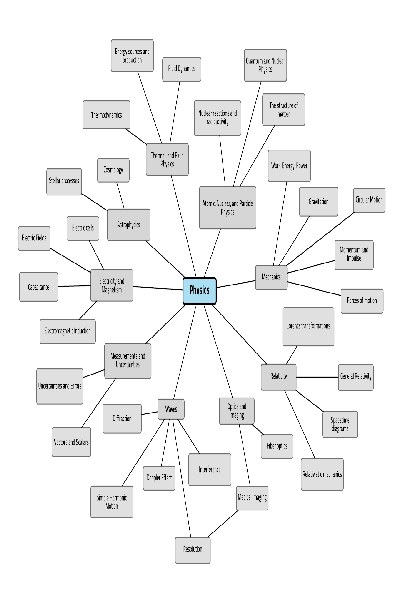arrow: (283, 214, 353, 267), (211, 302, 266, 363), (231, 82, 261, 187), (169, 174, 197, 279), (204, 304, 234, 400), (123, 420, 165, 487), (169, 419, 192, 536), (283, 391, 315, 458), (174, 305, 195, 401), (242, 126, 274, 186), (137, 70, 162, 143), (145, 239, 186, 280), (145, 304, 186, 344), (83, 379, 115, 428), (278, 216, 308, 268), (271, 182, 288, 266), (51, 246, 92, 274), (208, 509, 251, 534), (286, 279, 340, 298), (175, 418, 202, 450), (238, 425, 251, 486), (287, 261, 335, 276), (205, 228, 219, 277), (294, 390, 325, 412), (83, 192, 110, 214), (170, 80, 179, 144), (87, 238, 105, 269), (217, 279, 256, 293), (132, 283, 182, 293), (218, 136, 226, 186), (160, 421, 169, 464), (80, 300, 99, 320), (126, 127, 148, 144), (113, 180, 126, 208), (294, 373, 338, 380), (284, 347, 300, 366), (59, 280, 92, 289), (84, 368, 105, 381), (251, 423, 265, 434), (142, 410, 159, 418)
idea: (199, 185, 255, 229), (282, 305, 334, 347), (36, 366, 83, 407), (104, 341, 151, 379), (194, 100, 241, 135), (300, 457, 345, 491), (110, 38, 152, 74), (145, 142, 188, 177), (262, 93, 305, 127), (245, 49, 288, 83), (267, 150, 310, 183), (188, 452, 229, 486), (83, 100, 129, 130), (41, 320, 96, 345), (91, 486, 134, 517), (299, 185, 338, 219), (18, 270, 59, 301), (107, 209, 148, 240), (90, 270, 131, 301), (105, 404, 144, 436), (53, 426, 92, 457), (339, 289, 385, 315), (335, 240, 373, 269), (45, 167, 83, 196), (260, 363, 297, 392), (321, 410, 359, 438), (220, 396, 255, 426), (161, 58, 201, 84), (336, 363, 373, 391), (175, 536, 210, 564), (18, 225, 51, 252), (67, 215, 99, 241), (257, 264, 289, 290), (142, 465, 175, 490), (96, 158, 129, 182), (261, 434, 292, 459), (353, 188, 384, 213), (237, 485, 267, 509), (161, 398, 183, 420)
